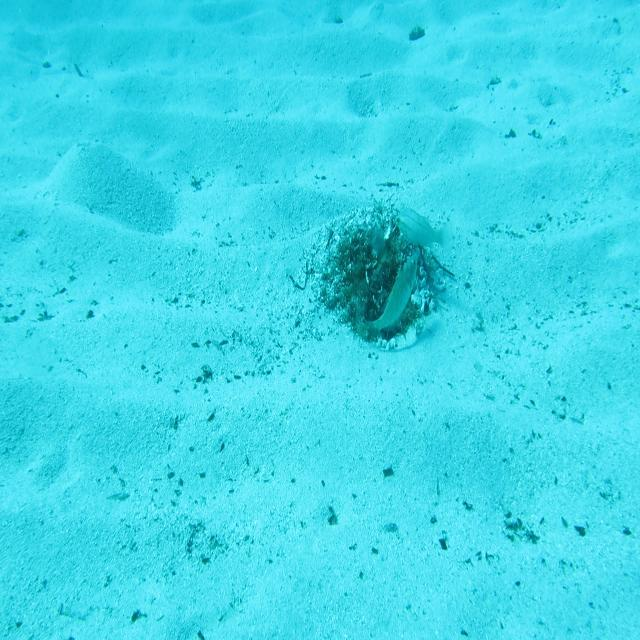GB: (366, 249, 422, 341)
female: (391, 206, 453, 266)
nest: (321, 198, 450, 353)
